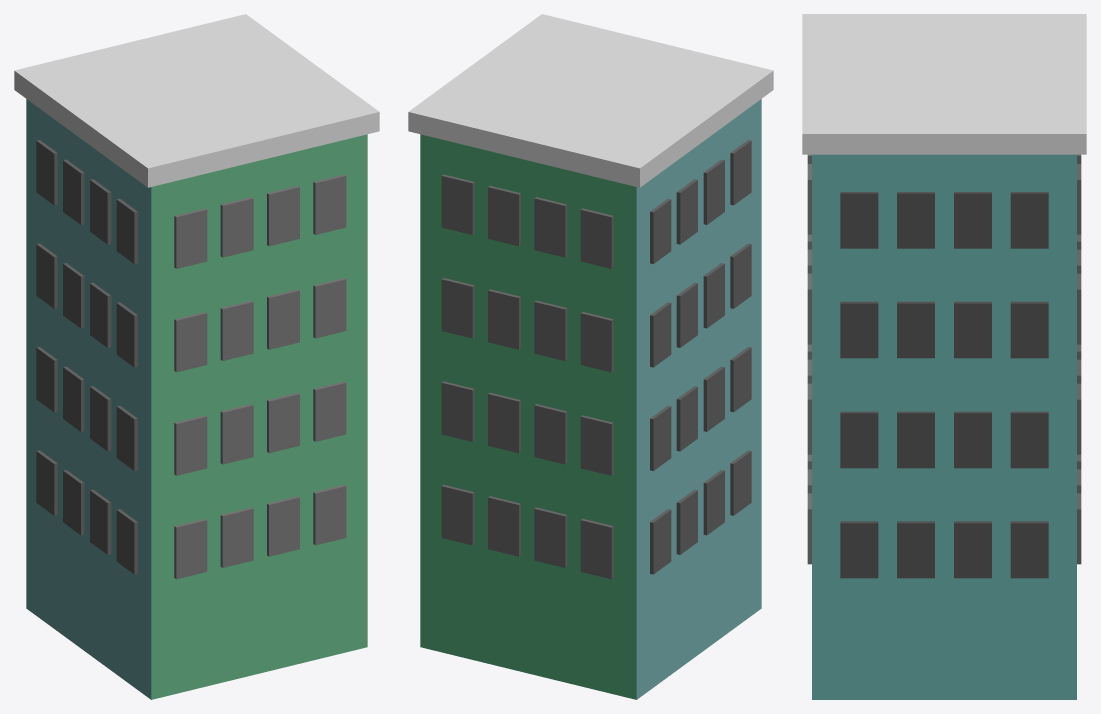
Rendered from Building 1.fbx.
3 renders of one model, left to right at view 1: azimuth 30°, elevation 25°; view 2: azimuth 150°, elevation 25°; view 3: azimuth 270°, elevation 25°, orthographic. The views are drawn at different scales.
Parts seen in each view (by area): view 1: Plane.001; view 2: Plane.001; view 3: Plane.001.
Boxes of the visible parts, <box> form: Plane.001: <box>14,14,379,699</box>; Plane.001: <box>408,14,773,699</box>; Plane.001: <box>802,14,1086,699</box>.
Size of the model in its own units: 375 by 830 by 375.
